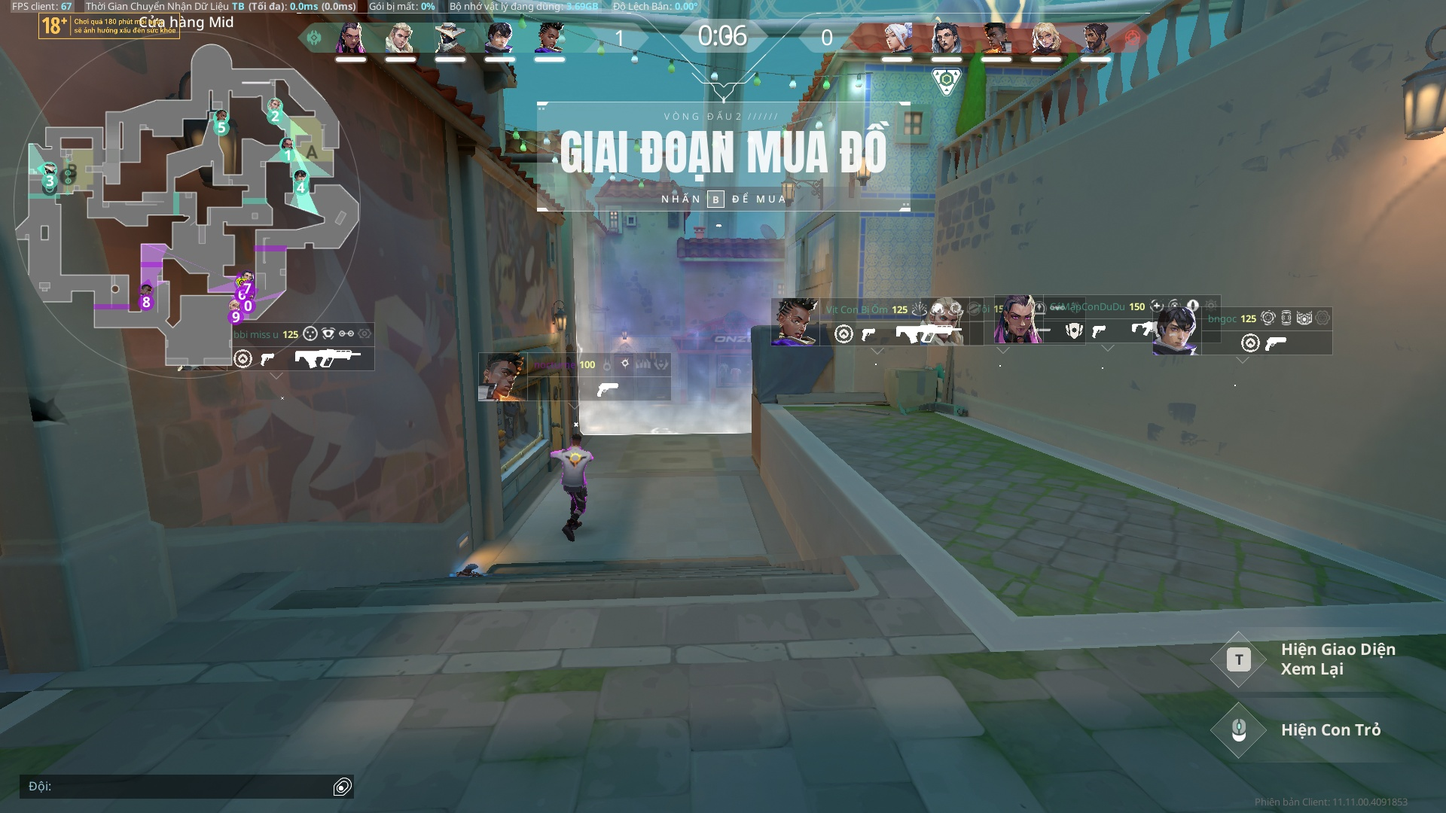body: (560, 446, 589, 483)
head: (570, 433, 584, 448)
